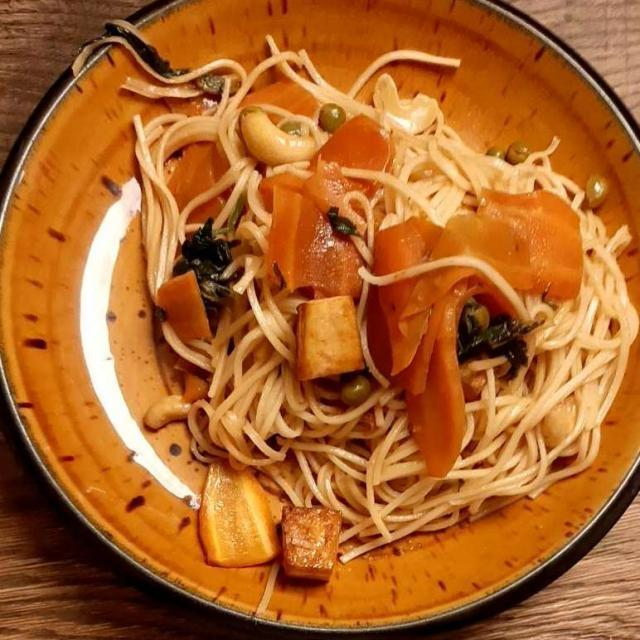carrot: (275, 181, 584, 456)
cashew-nut: (144, 101, 339, 437)
pasta: (147, 50, 635, 547)
spinach: (184, 224, 531, 373)
tofu: (270, 280, 360, 583)
